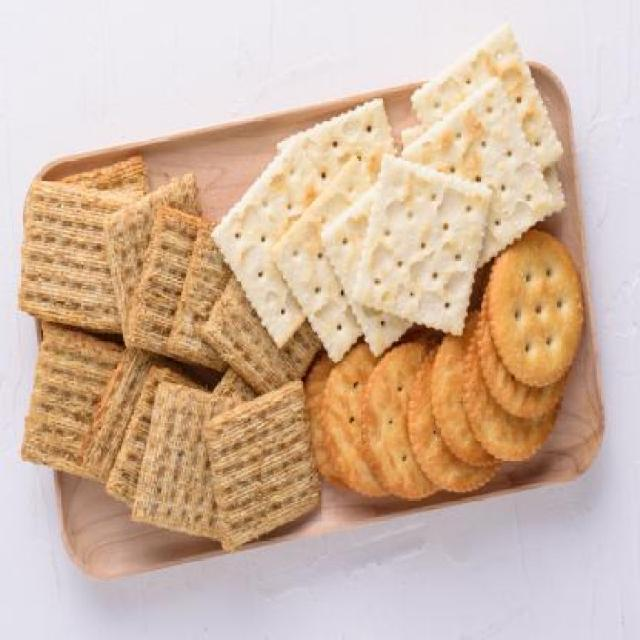Cracker packaged: (402, 90, 564, 264), (356, 149, 480, 340), (132, 377, 255, 554), (13, 172, 144, 332), (202, 376, 324, 546)
Ritz cracker packaged: (489, 232, 586, 374)
